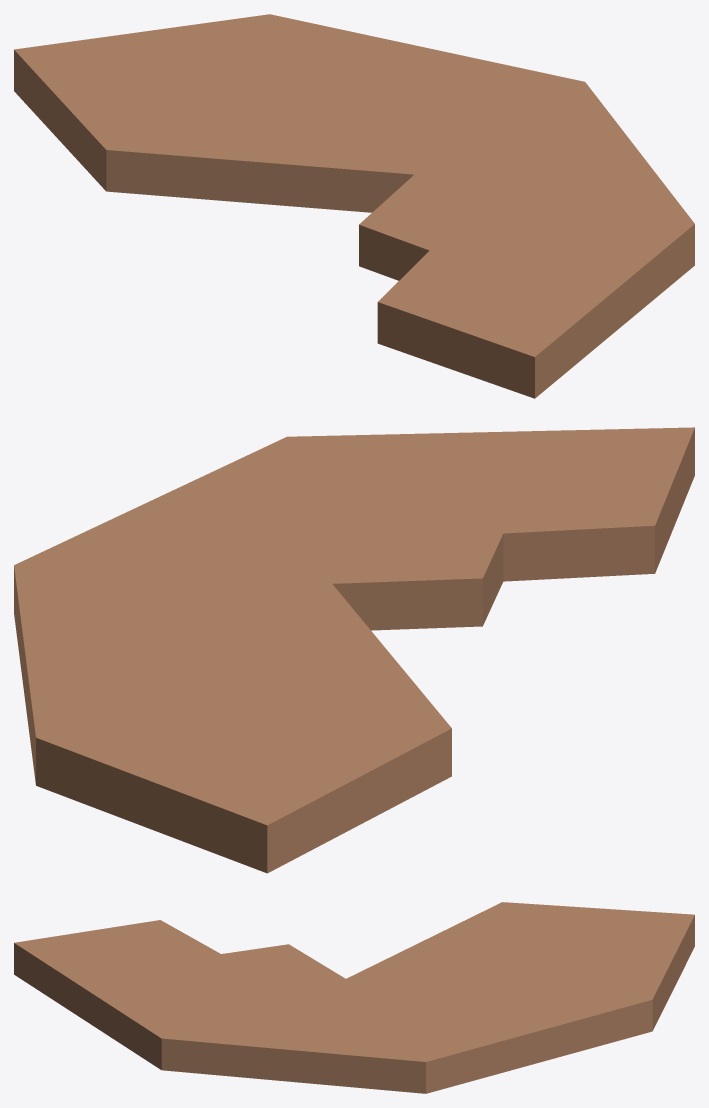
Rendered from Barrel_Lid_Destroyed_2 Asia.fbx.
3 renders of one model, top to bottom at view 1: azimuth 30°, elevation 25°; view 2: azimuth 150°, elevation 25°; view 3: azimuth 270°, elevation 25°, orthographic. The views are drawn at different scales.
Visible parts, largest first — view 1: Barrel_Lid_Destroyed_2; view 2: Barrel_Lid_Destroyed_2; view 3: Barrel_Lid_Destroyed_2.
Part boxes in pixels (box(x1,y1,x2,y2)): Barrel_Lid_Destroyed_2: box(14, 14, 694, 398); Barrel_Lid_Destroyed_2: box(14, 427, 694, 873); Barrel_Lid_Destroyed_2: box(14, 902, 694, 1093).
Bounding box in the file's own units: 0.2119 × 0.0196 × 0.3811.
